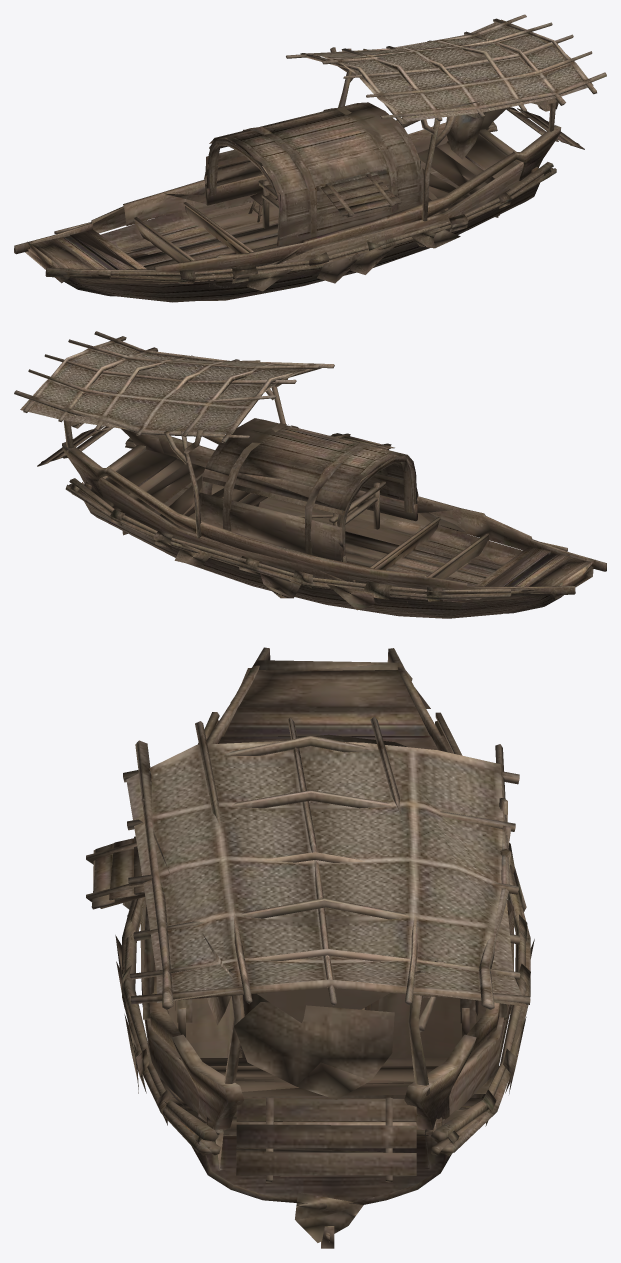
Rendered from boat.glb.
3 views of the same model, one above another, from view 1: azimuth 30°, elevation 25°; view 2: azimuth 150°, elevation 25°; view 3: azimuth 270°, elevation 25° (orthographic). The views are drawn at different scales.
Size of the model in its own units: 0.9575 by 0.3228 by 0.3423.
Materials: 1 (1 with a texture image).
